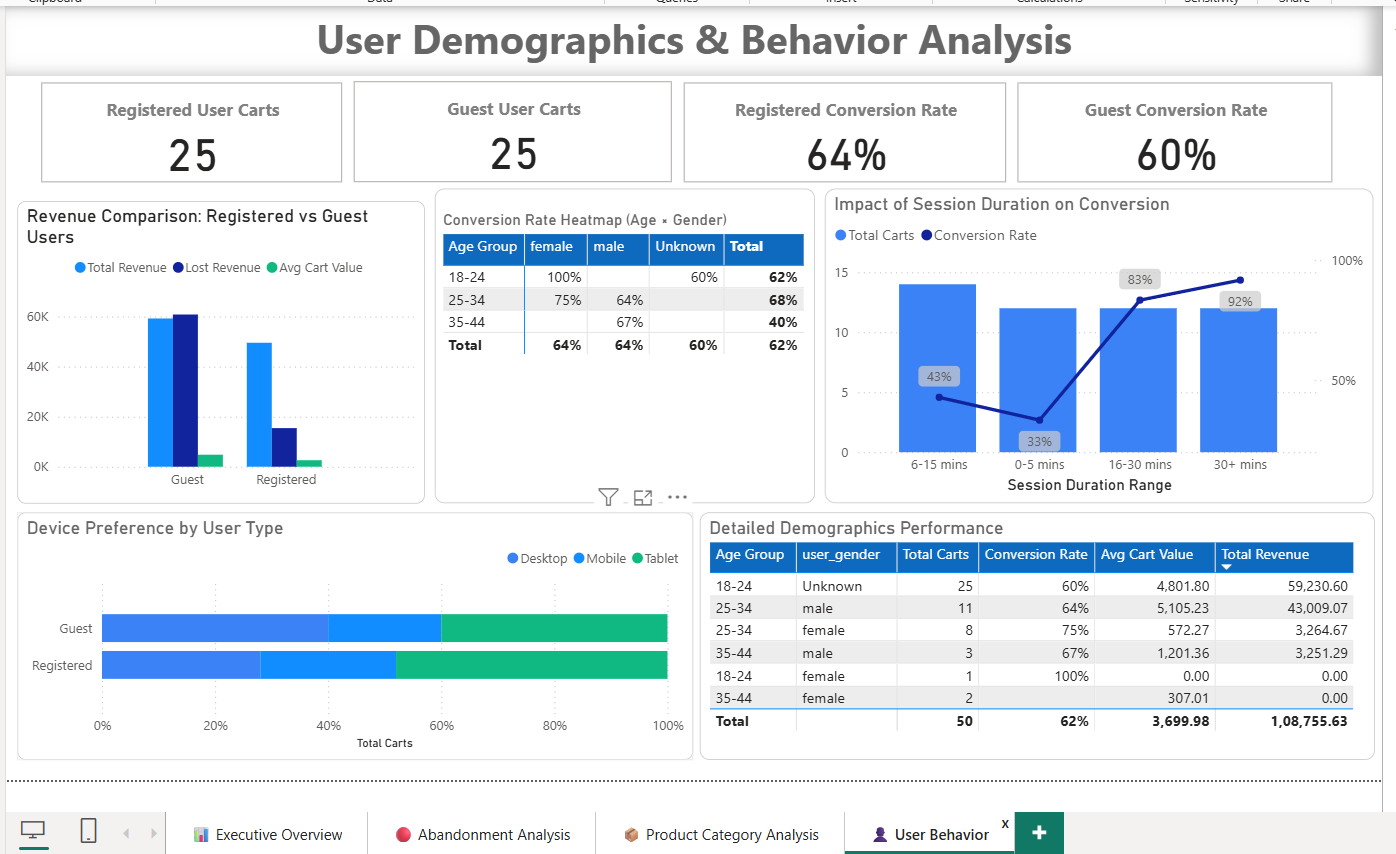

What the dashboard file says about the page in this screenshot:
{"tool":"powerbi","page":{"name":"👤 User Behavior","canvas":[1280,720],"ordinal":3},"visuals":[{"type":"textbox","box":[0,0,1280.2,65.1],"z":0},{"type":"cardVisual","fields":{"Data":["Category_Performance.Registered User Carts"]},"box":[27.9,66.3,290.7,103.5],"z":1000},{"type":"cardVisual","fields":{"Data":["Category_Performance.Guest User Carts"]},"box":[318.6,65.1,307,104.7],"z":2000},{"type":"cardVisual","fields":{"Data":["Category_Performance.Registered Conversion Rate"]},"box":[625.6,66.3,310.5,103.5],"z":3000},{"type":"cardVisual","fields":{"Data":["Category_Performance.Guest Conversion Rate"]},"box":[936,66.3,303.5,103.5],"z":4000},{"type":"clusteredColumnChart","title":"Revenue Comparison: Registered vs Guest Users","fields":{"Category":["CartData_Cleaned.User Type"],"Y":["CartData_Cleaned.Total Revenue","CartData_Cleaned.Lost Revenue","CartData_Cleaned.Avg Cart Value"]},"box":[10.5,181.4,379.1,281.4],"z":5000},{"type":"pivotTable","title":"Conversion Rate Heatmap (Age × Gender)","fields":{"Rows":["CartData_Cleaned.Age Group"],"Columns":["CartData_Cleaned.user_gender"],"Values":["CartData_Cleaned.Conversion Rate"]},"box":[398.8,169.8,353.5,293],"z":6000},{"type":"lineClusteredColumnComboChart","title":"Impact of Session Duration on Conversion","fields":{"Category":["CartData_Cleaned.Session Duration Range"],"Y":["CartData_Cleaned.Total Carts"],"Y2":["CartData_Cleaned.Conversion Rate"]},"box":[761.6,169.8,510.5,293],"z":7000},{"type":"hundredPercentStackedBarChart","title":"Device Preference by User Type","fields":{"Category":["CartData_Cleaned.User Type"],"Y":["CartData_Cleaned.Total Carts"],"Series":["CartData_Cleaned.device_type"]},"box":[10.5,470.9,629.1,230.2],"z":8000},{"type":"tableEx","title":"Detailed Demographics Performance","fields":{"Values":["CartData_Cleaned.Age Group","CartData_Cleaned.user_gender","CartData_Cleaned.Total Carts","CartData_Cleaned.Conversion Rate","CartData_Cleaned.Avg Cart Value","CartData_Cleaned.Total Revenue"]},"box":[645.4,470.9,627.9,230.2],"z":9000}]}

Visuals, with their boxes on the page's 1280x720 design canvas (x1, y1, x2, y2). These are canvas units, not pixel positions in the 1396x854 screenshot, which may show the page scaled, cropped or inside an application window:
textbox: BBox(0, 0, 1280, 65)
cardVisual - Category_Performance.Registered User Carts: BBox(28, 66, 319, 170)
cardVisual - Category_Performance.Guest User Carts: BBox(319, 65, 626, 170)
cardVisual - Category_Performance.Registered Conversion Rate: BBox(626, 66, 936, 170)
cardVisual - Category_Performance.Guest Conversion Rate: BBox(936, 66, 1240, 170)
"Revenue Comparison: Registered vs Guest Users" clusteredColumnChart: BBox(10, 181, 390, 463)
"Conversion Rate Heatmap (Age × Gender)" pivotTable: BBox(399, 170, 752, 463)
"Impact of Session Duration on Conversion" lineClusteredColumnComboChart: BBox(762, 170, 1272, 463)
"Device Preference by User Type" hundredPercentStackedBarChart: BBox(10, 471, 640, 701)
"Detailed Demographics Performance" tableEx: BBox(645, 471, 1273, 701)
